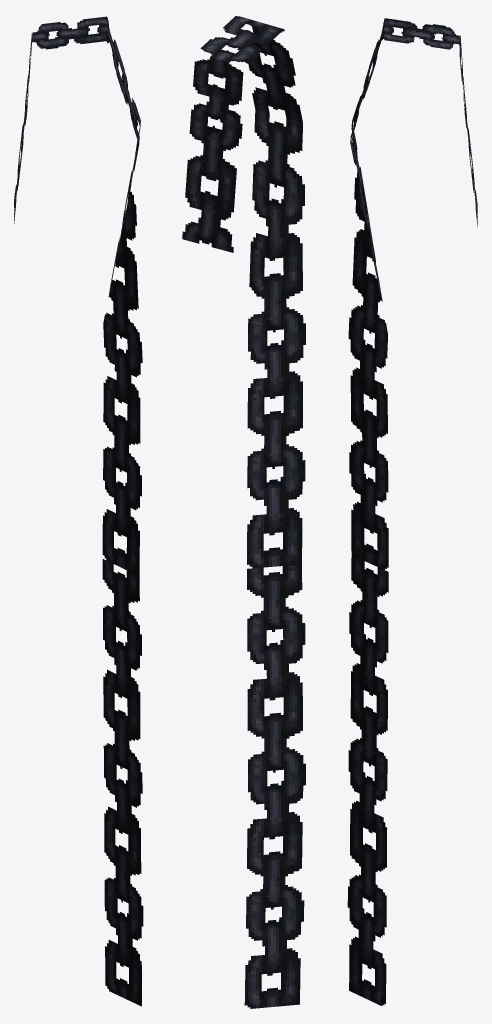
The model's file is 10504_IronRail16.FBX.
3 views of the same model, side by side, from view 1: azimuth 90°, elevation 25°; view 2: azimuth 150°, elevation 25°; view 3: azimuth 270°, elevation 25° (orthographic). The views are drawn at different scales.
Visible parts, largest first — view 1: 10504_IronRail16; view 2: 10504_IronRail16; view 3: 10504_IronRail16.
Boxes of the visible parts, x1,y1,x2,y2 form: 10504_IronRail16: (14, 16, 143, 1006); 10504_IronRail16: (182, 16, 305, 1008); 10504_IronRail16: (347, 18, 477, 1005).
Bounding box in the file's own units: 64.49 × 860 × 109.
